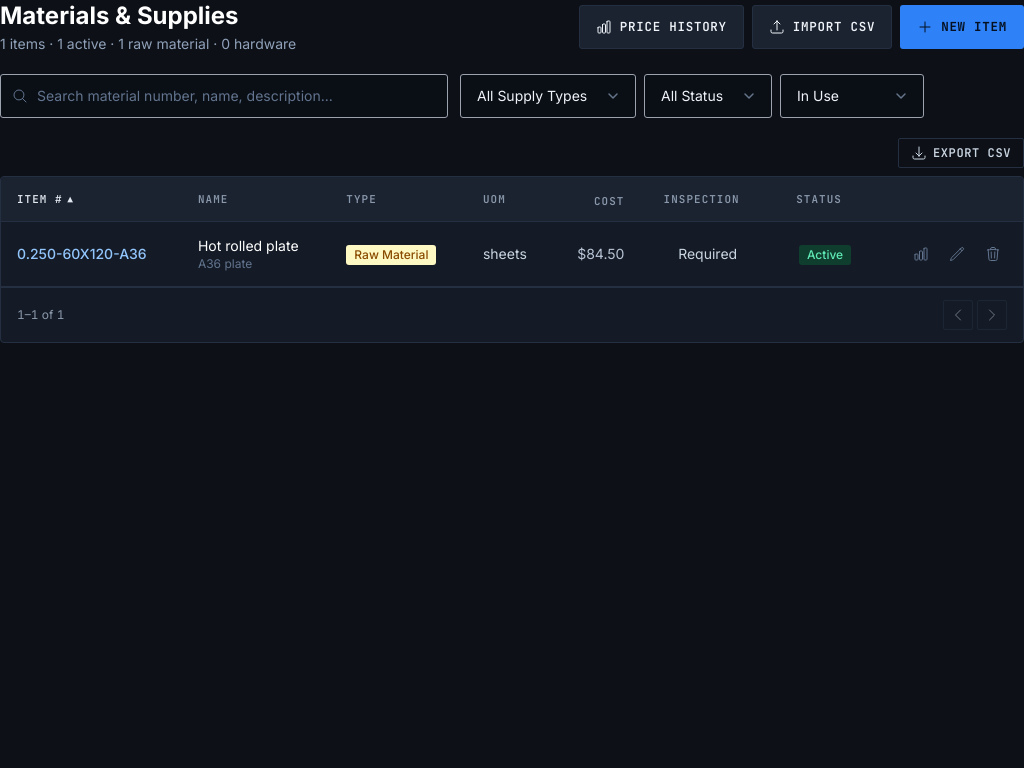
Materials renumber gate › offers Renumber to an admin editing a material
Step 1. Click the button named "edit" → (957, 254), box [943,240,971,268]
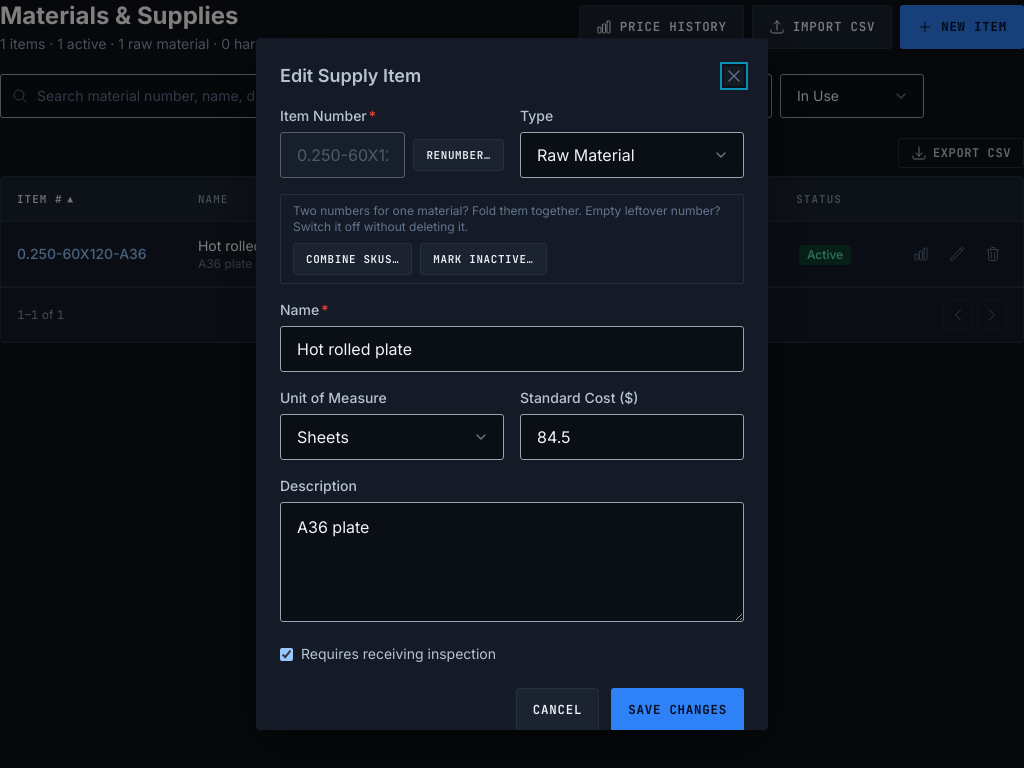
Expected: the field labelled "Item Number*" is shown, [280,132,405,178]
Expected: the button "Renumber…" is shown, [413,139,504,171]
